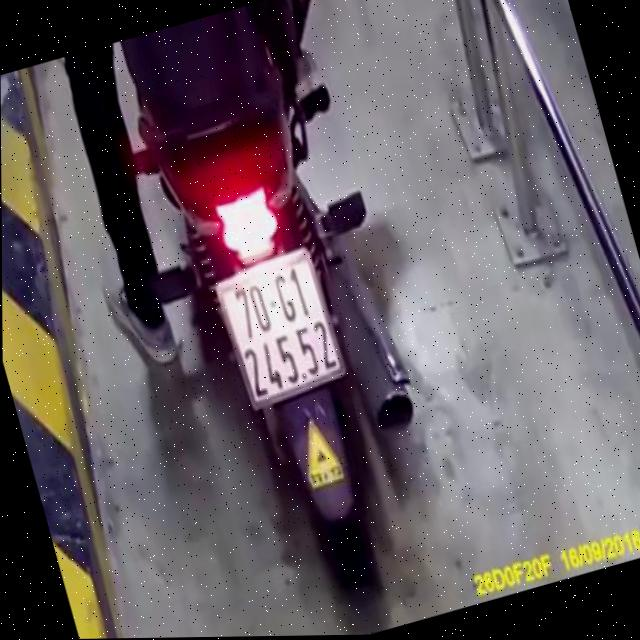motorcycle: (85, 0, 480, 639)
plate: (207, 244, 360, 414)
